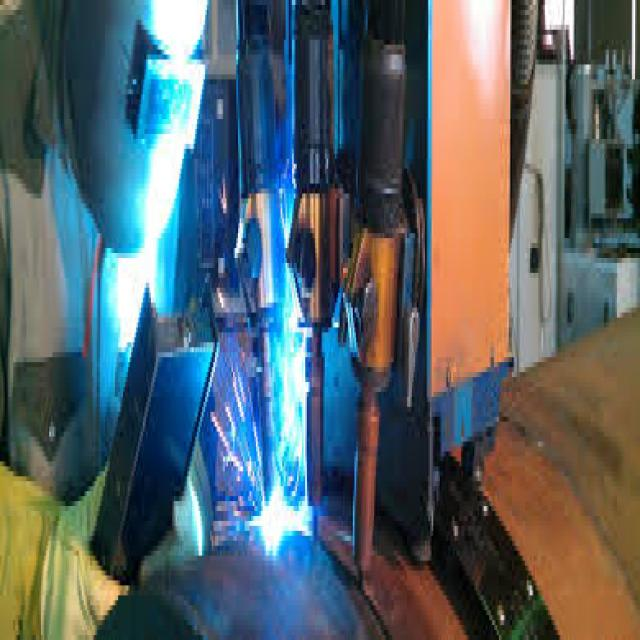welding: (263, 489, 291, 547)
